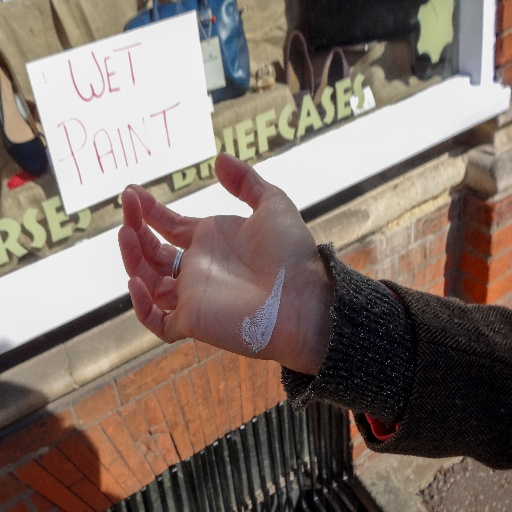hand: (125, 168, 322, 379)
